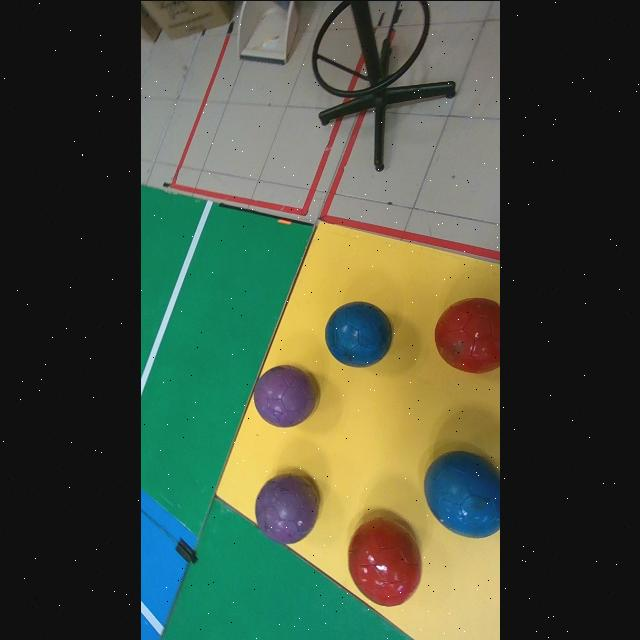B: (424, 450, 500, 537), (325, 301, 391, 366)
P: (254, 474, 317, 542), (253, 365, 316, 426)
R: (347, 517, 420, 606), (434, 297, 500, 372)
